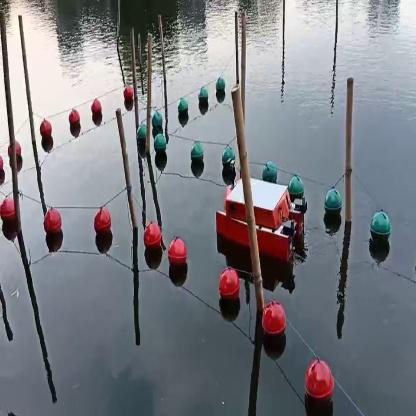green_buoy: (370, 210, 392, 260), (321, 188, 342, 220), (137, 121, 148, 156), (222, 147, 239, 168), (289, 176, 303, 197), (260, 162, 277, 178), (199, 90, 209, 115), (192, 143, 202, 166), (178, 96, 188, 119), (156, 134, 166, 152), (152, 111, 162, 129), (216, 80, 226, 98)
red_buoy: (305, 360, 335, 406), (261, 301, 288, 347), (218, 266, 240, 309), (142, 219, 164, 256), (167, 238, 187, 274), (92, 204, 112, 240), (44, 205, 64, 236), (0, 194, 16, 226), (40, 117, 57, 142), (67, 111, 82, 130), (122, 88, 134, 108), (90, 102, 104, 119)
